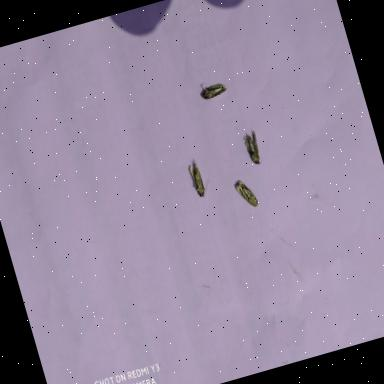pbw: (179, 148, 215, 201), (237, 125, 272, 174), (230, 174, 266, 216), (195, 72, 234, 109)
